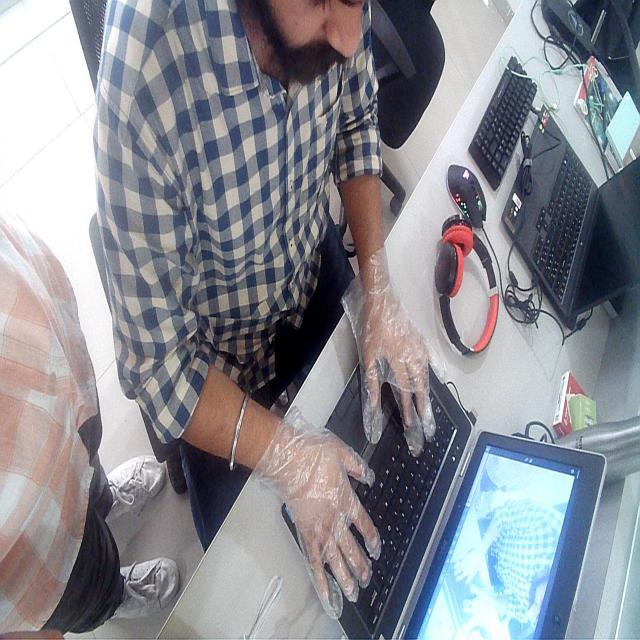with_gloves: (244, 412, 416, 593), (348, 264, 460, 438)
